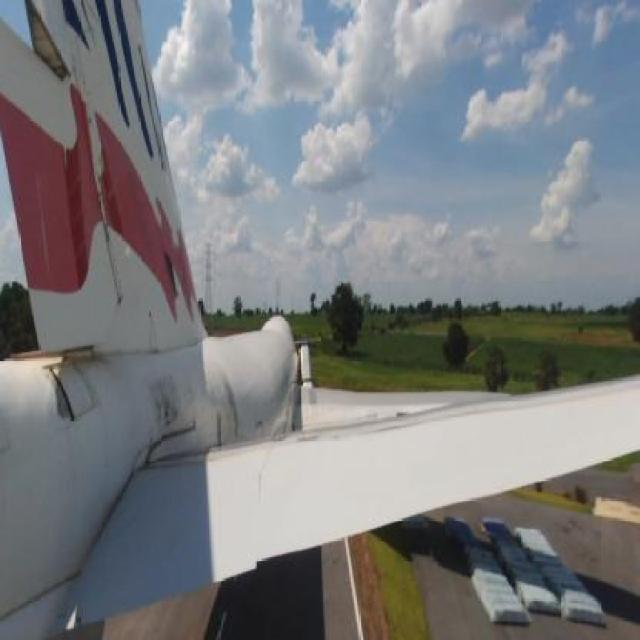Rust: (139, 375, 190, 427), (43, 356, 115, 370)
Scartch: (220, 366, 246, 432), (46, 382, 74, 420)
